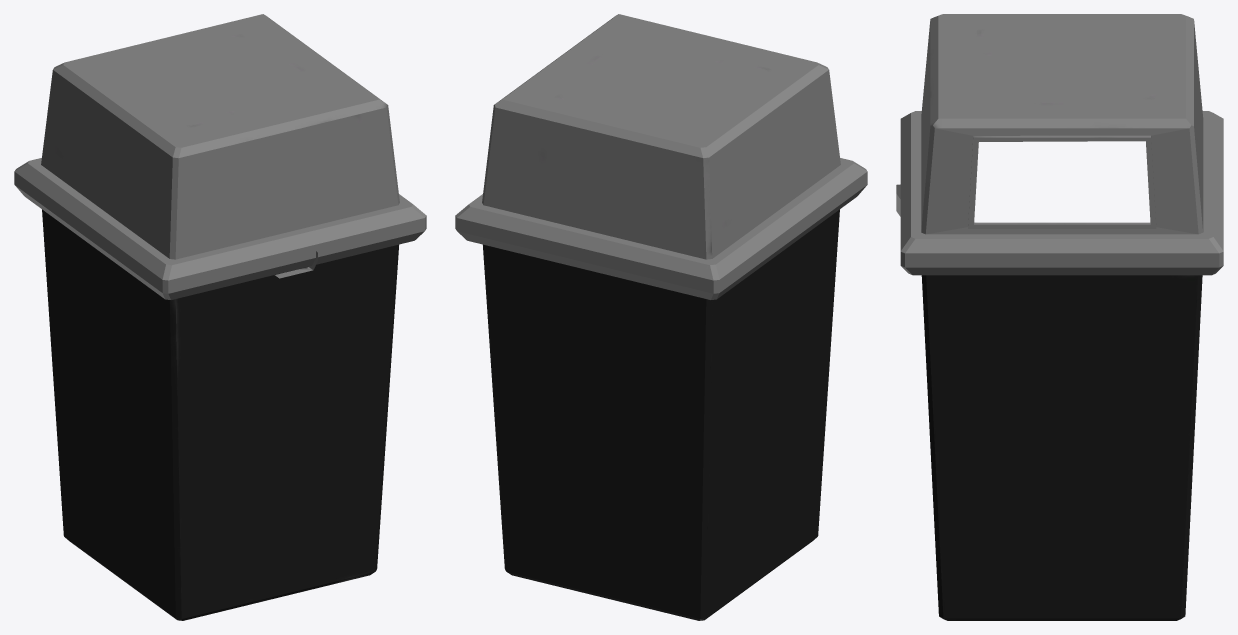
Rendered from trash-can-size-1.glb.
The picture shows the model from 3 angles, left to right: view 1: azimuth 30°, elevation 25°; view 2: azimuth 150°, elevation 25°; view 3: azimuth 270°, elevation 25°; orthographic projection. The views are drawn at different scales.
Visible parts, largest first — view 1: default; view 2: default; view 3: default.
Boxes of the visible parts, x1,y1,x2,y2 form: default: (14,14,426,620); default: (455,14,867,620); default: (896,14,1223,620).
Bounding box in the file's own units: 0.4337 × 0.7469 × 0.4396.
1 material, 1 textured.
